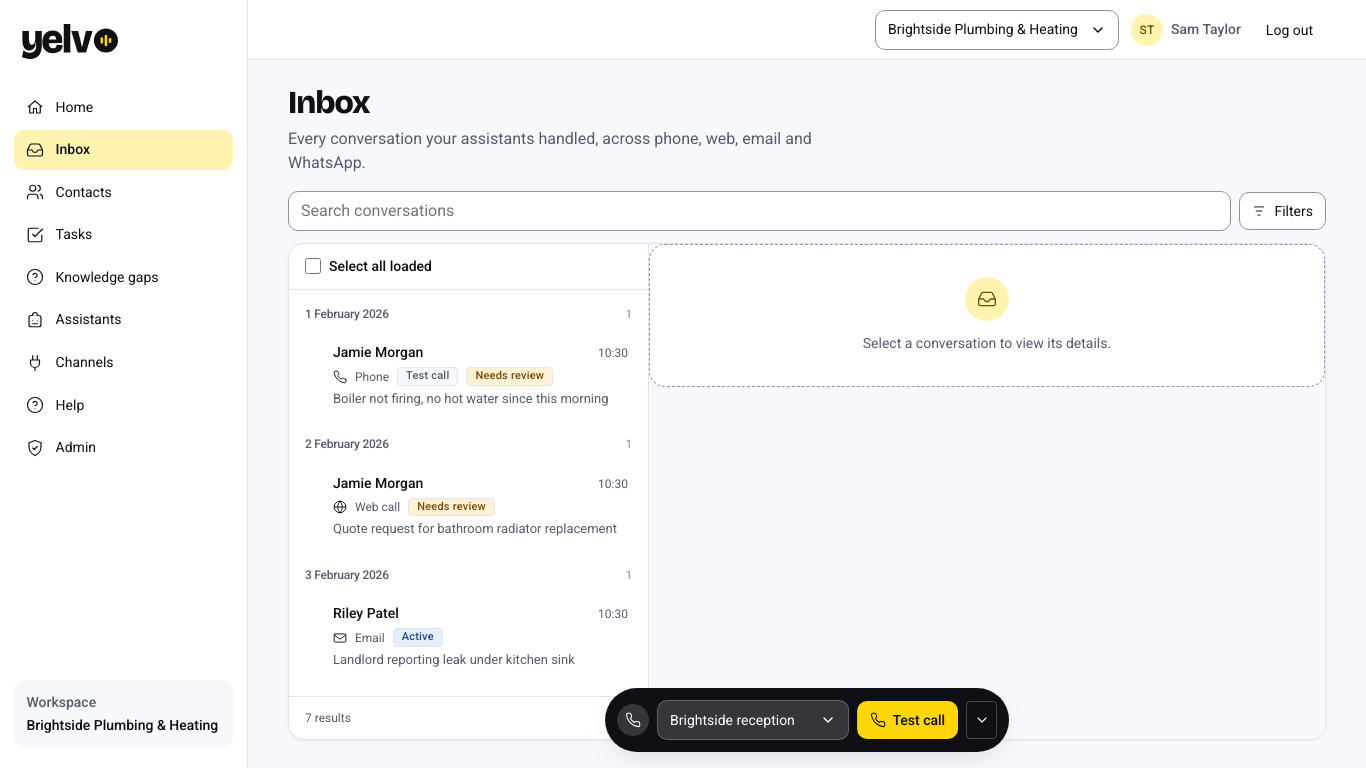
global test-call bar › collapses with the keyboard and remembers the collapsed state and assistant
Check: the heading "Inbox" is shown, box [288,83,370,122]
Select "Second assistant" in the dropdown named "Assistant to test" at (753, 720), box [657,700,849,740]
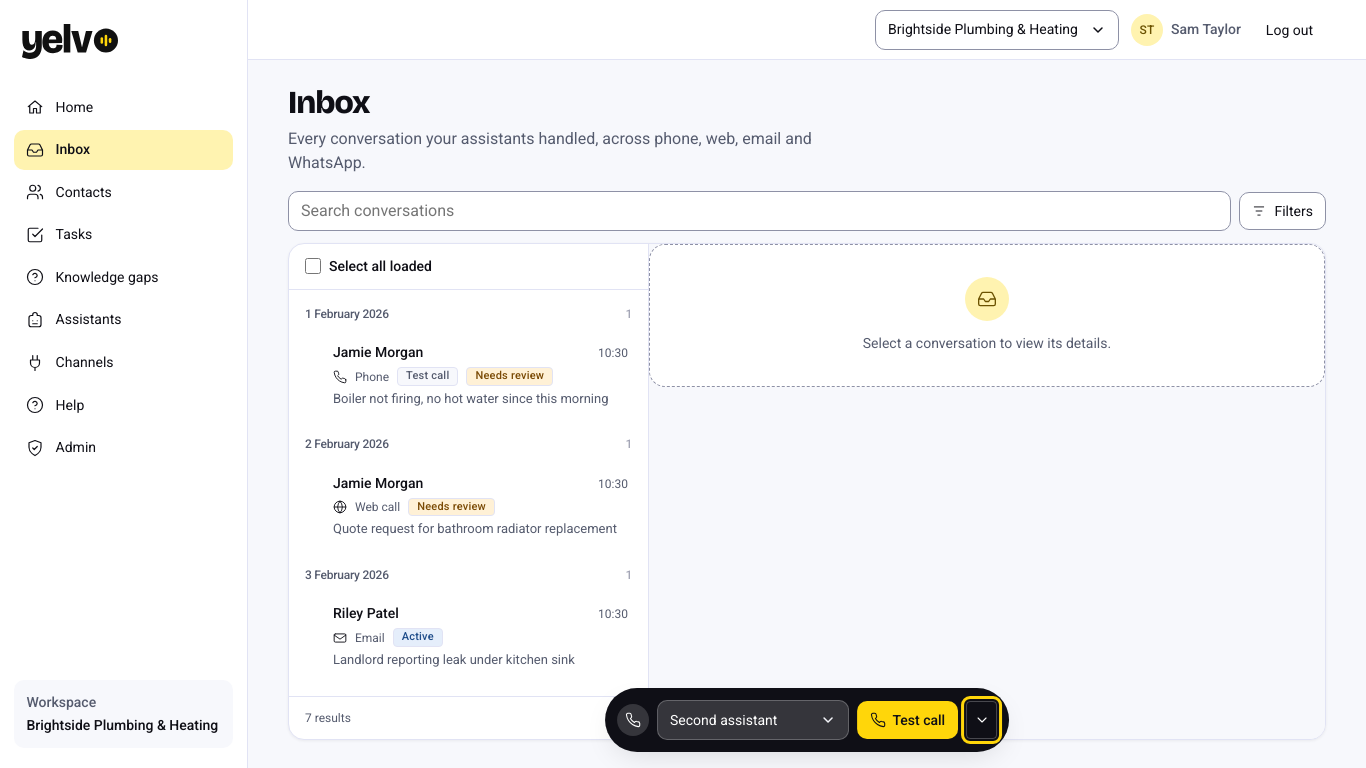
Press Enter
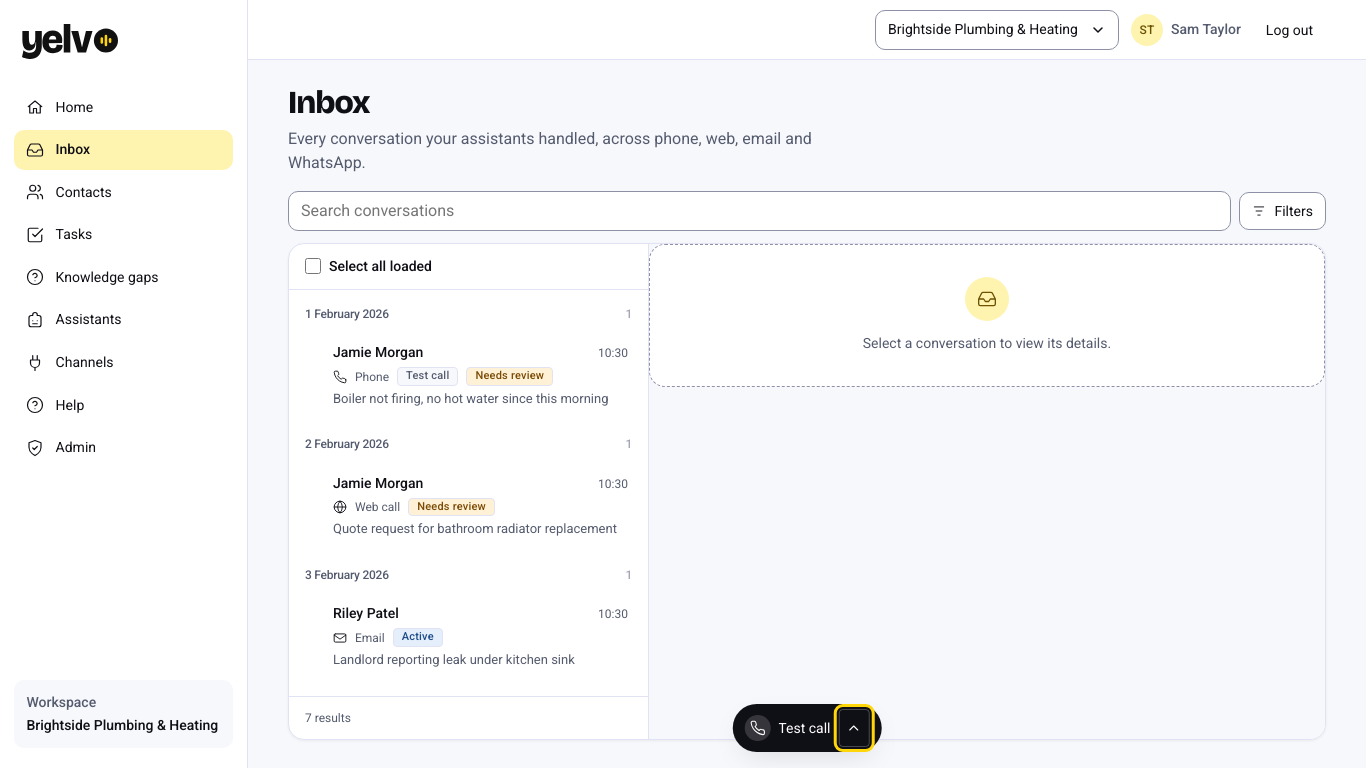
Check: the button named "Expand test call bar" is collapsed, box [838,709,869,747]
